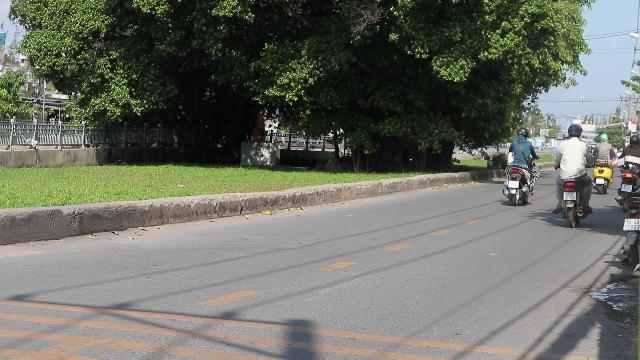helmet: (566, 122, 582, 138)
licenseplate: (624, 219, 640, 229), (564, 192, 576, 200)
motorcyclist: (549, 122, 593, 226)
